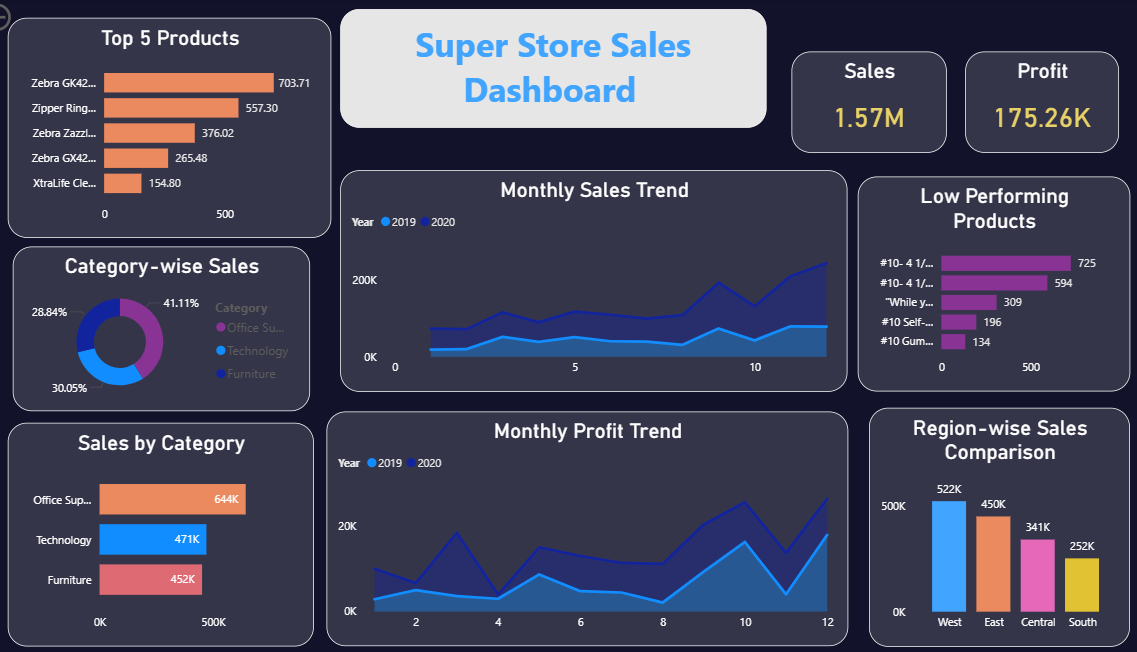

This screenshot's page, from the dashboard's own definition file:
{"tool":"powerbi","page":{"name":"Page 1","canvas":[1280,720],"ordinal":0},"visuals":[{"type":"clusteredBarChart","title":"Sales by Category","fields":{"Category":["SuperStore_Sales_Dataset.Category"],"Y":["Sum(SuperStore_Sales_Dataset.Sales)"]},"box":[31.6,465.2,336.2,245.6],"z":0},{"type":"card","title":"Sales ","fields":{"Values":["Sum(SuperStore_Sales_Dataset.Sales)"]},"box":[891.9,57.6,170.2,111.1],"z":1000},{"type":"card","title":"Profit","fields":{"Values":["Sum(SuperStore_Sales_Dataset.Profit)"]},"box":[1082.7,57.6,168.8,111.1],"z":2000},{"type":"stackedAreaChart","title":"Monthly Sales Trend","fields":{"Category":["SuperStore_Sales_Dataset.Month"],"Y":["Sum(SuperStore_Sales_Dataset.Sales)"],"Series":["SuperStore_Sales_Dataset.Year"]},"box":[396.6,188,557.1,242.9],"z":3000},{"type":"stackedAreaChart","title":"Monthly Profit Trend","fields":{"Category":["SuperStore_Sales_Dataset.Month"],"Series":["SuperStore_Sales_Dataset.Year"],"Y":["Sum(SuperStore_Sales_Dataset.Profit)"]},"box":[381,452.4,572.9,257.7],"z":4000},{"type":"clusteredColumnChart","title":"Region-wise Sales Comparison","fields":{"Category":["SuperStore_Sales_Dataset.Region"],"Y":["Sum(SuperStore_Sales_Dataset.Sales)"]},"box":[977,448.7,286.8,262.1],"z":5000},{"type":"donutChart","title":"Category-wise Sales","fields":{"Category":["SuperStore_Sales_Dataset.Category"],"Y":["Sum(SuperStore_Sales_Dataset.Sales)"]},"box":[37,271.7,326.6,181.1],"z":6000},{"type":"barChart","title":"Top 5 Products","fields":{"Y":["Sum(SuperStore_Sales_Dataset.Sales)"],"Category":["SuperStore_Sales_Dataset.Product Name"]},"box":[31.6,20.6,355.4,241.5],"z":7000},{"type":"actionButton","box":[0,0,100,40],"z":8000},{"type":"barChart","title":"Low Performing Products","fields":{"Category":["SuperStore_Sales_Dataset.Product Name"],"Y":["Sum(SuperStore_Sales_Dataset.Sales)"]},"box":[964.7,194.9,299.1,236],"z":9000},{"type":"textbox","box":[396.9,10.8,467.7,130.8],"z":10000}]}

Visuals, with their boxes in screenshot pixels (x1, y1, x2, y2), scaled from the page's 1280x720 canvas onto the 1137x652 screenshot:
"Sales by Category" clusteredBarChart: box=[28, 421, 327, 644]
"Sales " card: box=[792, 52, 943, 153]
"Profit" card: box=[962, 52, 1112, 153]
"Monthly Sales Trend" stackedAreaChart: box=[352, 170, 847, 390]
"Monthly Profit Trend" stackedAreaChart: box=[338, 410, 847, 643]
"Region-wise Sales Comparison" clusteredColumnChart: box=[868, 406, 1123, 644]
"Category-wise Sales" donutChart: box=[33, 246, 323, 410]
"Top 5 Products" barChart: box=[28, 19, 344, 237]
actionButton: box=[0, 0, 89, 36]
"Low Performing Products" barChart: box=[857, 176, 1123, 390]
textbox: box=[353, 10, 768, 128]
